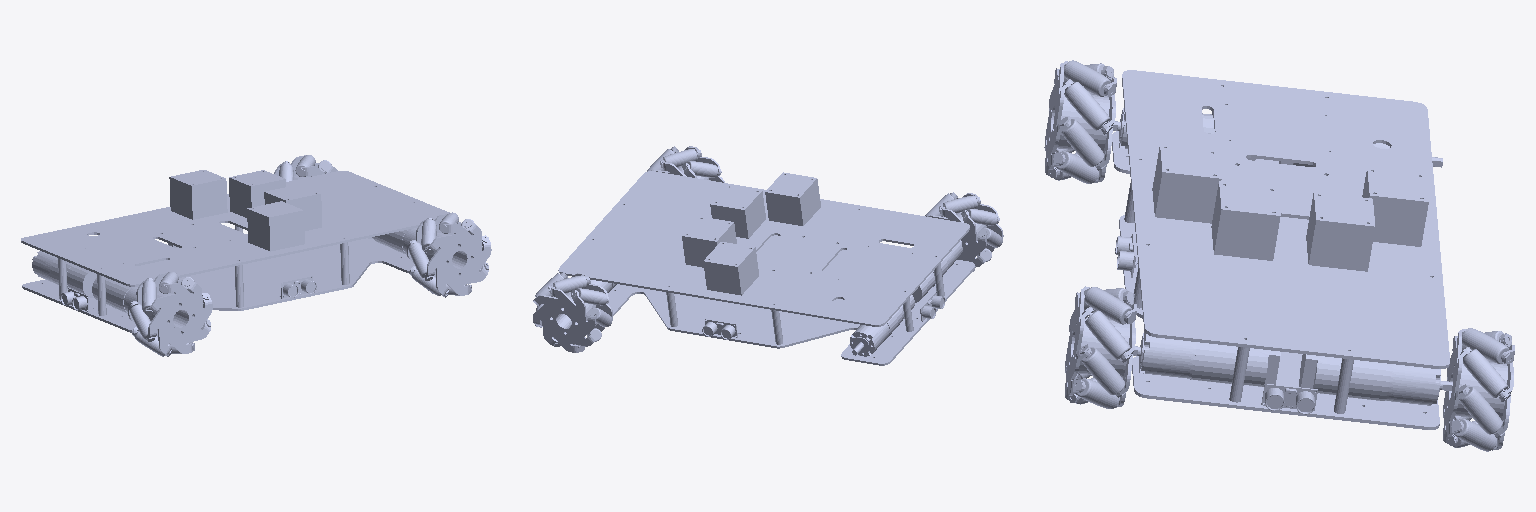
URDF robot description (gagah_ganteng):
<?xml version="1.0" encoding="utf-8"?>
<!-- This URDF was automatically created by SolidWorks to URDF Exporter! Originally created by Stephen Brawner (brawner@gmail.com) 
     Commit Version: 1.6.0-4-g7f85cfe  Build Version: 1.6.7995.38578
     For more information, please see http://wiki.ros.org/sw_urdf_exporter -->
<robot
  name="gagah_ganteng">
  <link
    name="base_link">
    <inertial>
      <origin
        xyz="0.0095865 0.0064859 0.039653"
        rpy="0 0 0" />
      <mass
        value="3.5" />
      <inertia
        ixx="0.00417"
        ixy="-0.00032831"
        ixz="0.00062645"
        iyy="0.012777"
        iyz="0.00058894"
        izz="0.01649" />
    </inertial>
    <visual>
      <origin
        xyz="0 0 0"
        rpy="0 0 0" />
      <geometry>
        <mesh
          filename="package://gagah_ganteng/meshes/base_link.STL" />
      </geometry>
      <material
        name="">
        <color
          rgba="0.79216 0.81961 0.93333 1" />
      </material>
    </visual>
    <collision>
      <origin
        xyz="0 0 0"
        rpy="0 0 0" />
      <geometry>
        <mesh
          filename="package://gagah_ganteng/meshes/base_link.STL" />
      </geometry>
    </collision>
  </link>
  <link
    name="lower_right_wheel_Link">
    <inertial>
      <origin
        xyz="-7.0204E-08 0.023421 -7.567E-08"
        rpy="0 0 0" />
      <mass
        value="0.5" />
      <inertia
        ixx="4.6952E-05"
        ixy="5.489E-18"
        ixz="8.5235E-18"
        iyy="6.4174E-05"
        iyz="6.7947E-18"
        izz="4.6952E-05" />
    </inertial>
    <visual>
      <origin
        xyz="0 0 0"
        rpy="0 0 0" />
      <geometry>
        <mesh
          filename="package://gagah_ganteng/meshes/lower_right_wheel_Link.STL" />
      </geometry>
      <material
        name="">
        <color
          rgba="0.79216 0.81961 0.93333 1" />
      </material>
    </visual>
    <collision>
      <origin
        xyz="0 0 0"
        rpy="0 0 0" />
      <geometry>
        <mesh
          filename="package://gagah_ganteng/meshes/lower_right_wheel_Link.STL" />
      </geometry>
    </collision>
  </link>
  <joint
    name="lower_right_wheel_joint"
    type="continuous">
    <origin
      xyz="-0.18949 -0.18623 0.058954"
      rpy="-0.14648 0.060459 0.040985" />
    <parent
      link="base_link" />
    <child
      link="lower_right_wheel_Link" />
    <axis
      xyz="0 1 0" />
  </joint>
  <link
    name="upper_right_wheel_link">
    <inertial>
      <origin
        xyz="-7.5921E-08 0.023829 6.9932E-08"
        rpy="0 0 0" />
      <mass
        value="0.5" />
      <inertia
        ixx="4.6952E-05"
        ixy="-5.9903E-18"
        ixz="-1.1372E-17"
        iyy="6.4174E-05"
        iyz="6.3402E-18"
        izz="4.6952E-05" />
    </inertial>
    <visual>
      <origin
        xyz="0 0 0"
        rpy="0 0 0" />
      <geometry>
        <mesh
          filename="package://gagah_ganteng/meshes/upper_right_wheel_link.STL" />
      </geometry>
      <material
        name="">
        <color
          rgba="0.79216 0.81961 0.93333 1" />
      </material>
    </visual>
    <collision>
      <origin
        xyz="0 0 0"
        rpy="0 0 0" />
      <geometry>
        <mesh
          filename="package://gagah_ganteng/meshes/upper_right_wheel_link.STL" />
      </geometry>
    </collision>
  </link>
  <joint
    name="upper_right_wheel_joint"
    type="continuous">
    <origin
      xyz="0.2096 -0.1694 0.037911"
      rpy="-0.14732 0.12246 0.031775" />
    <parent
      link="base_link" />
    <child
      link="upper_right_wheel_link" />
    <axis
      xyz="0 1 0" />
  </joint>
  <link
    name="upper_left_wheel_Link">
    <inertial>
      <origin
        xyz="7.9687E-08 -0.023829 -6.561E-08"
        rpy="0 0 0" />
      <mass
        value="0.5" />
      <inertia
        ixx="4.6952E-05"
        ixy="-7.126E-18"
        ixz="-6.2312E-18"
        iyy="6.4174E-05"
        iyz="5.0581E-18"
        izz="4.6952E-05" />
    </inertial>
    <visual>
      <origin
        xyz="0 0 0"
        rpy="0 0 0" />
      <geometry>
        <mesh
          filename="package://gagah_ganteng/meshes/upper_left_wheel_Link.STL" />
      </geometry>
      <material
        name="">
        <color
          rgba="0.79216 0.81961 0.93333 1" />
      </material>
    </visual>
    <collision>
      <origin
        xyz="0 0 0"
        rpy="0 0 0" />
      <geometry>
        <mesh
          filename="package://gagah_ganteng/meshes/upper_left_wheel_Link.STL" />
      </geometry>
    </collision>
  </link>
  <joint
    name="upper_left_wheel_joint"
    type="continuous">
    <origin
      xyz="0.19151 0.19274 -0.015485"
      rpy="-0.14726 0.11895 0.032299" />
    <parent
      link="base_link" />
    <child
      link="upper_left_wheel_Link" />
    <axis
      xyz="0 -1 0" />
  </joint>
  <link
    name="lower_left_wheel_Link">
    <inertial>
      <origin
        xyz="1.6966E-08 -0.023829 -1.0182E-07"
        rpy="0 0 0" />
      <mass
        value="0.5" />
      <inertia
        ixx="4.6952E-05"
        ixy="-2.0206E-18"
        ixz="-2.0441E-17"
        iyy="6.4174E-05"
        iyz="8.5107E-18"
        izz="4.6952E-05" />
    </inertial>
    <visual>
      <origin
        xyz="0 0 0"
        rpy="0 0 0" />
      <geometry>
        <mesh
          filename="package://gagah_ganteng/meshes/lower_left_wheel_Link.STL" />
      </geometry>
      <material
        name="">
        <color
          rgba="0.79216 0.81961 0.93333 1" />
      </material>
    </visual>
    <collision>
      <origin
        xyz="0 0 0"
        rpy="0 0 0" />
      <geometry>
        <mesh
          filename="package://gagah_ganteng/meshes/lower_left_wheel_Link.STL" />
      </geometry>
    </collision>
  </link>
  <joint
    name="lower_left_wheel_joint"
    type="continuous">
    <origin
      xyz="-0.20758 0.17591 0.0055581"
      rpy="-0.14628 -0.031085 0.054479" />
    <parent
      link="base_link" />
    <child
      link="lower_left_wheel_Link" />
    <axis
      xyz="0 -1 0" />
  </joint>
</robot>

--- What the picture shows (computed from the rendered views, not written in the file) ---
Views: 3 orthographic renders of the robot side by side, from view 1: azimuth 30°, elevation 25°; view 2: azimuth 150°, elevation 25°; view 3: azimuth 270°, elevation 25°.
Robot: gagah_ganteng — 5 links, 4 joints (4 continuous); root link base_link; default pose: all joints at 0.
Links seen in each view (by area): view 1: base_link, lower_right_wheel_Link, upper_right_wheel_link, upper_left_wheel_Link; view 2: base_link, upper_left_wheel_Link, lower_right_wheel_Link, upper_right_wheel_link; view 3: base_link, lower_right_wheel_Link, upper_right_wheel_link, upper_left_wheel_Link.
Link boxes in pixels (bbox=[...]): base_link: bbox=[21, 170, 449, 332]; lower_right_wheel_Link: bbox=[128, 272, 212, 356]; upper_right_wheel_link: bbox=[407, 212, 491, 297]; upper_left_wheel_Link: bbox=[274, 155, 337, 181]; base_link: bbox=[558, 171, 975, 365]; upper_left_wheel_Link: bbox=[533, 272, 612, 352]; lower_right_wheel_Link: bbox=[925, 192, 1003, 271]; upper_right_wheel_link: bbox=[647, 146, 724, 182]; base_link: bbox=[1112, 70, 1452, 429]; lower_right_wheel_Link: bbox=[1044, 60, 1116, 183]; upper_right_wheel_link: bbox=[1065, 286, 1137, 408]; upper_left_wheel_Link: bbox=[1443, 328, 1514, 451].
Size in the robot's own frame: 0.5028 by 0.3931 by 0.1794 metres.
4 mesh visuals loaded from 5 distinct referenced files (4 binary STL); not drawn: 1 (reference not matched to a file when rendering).
